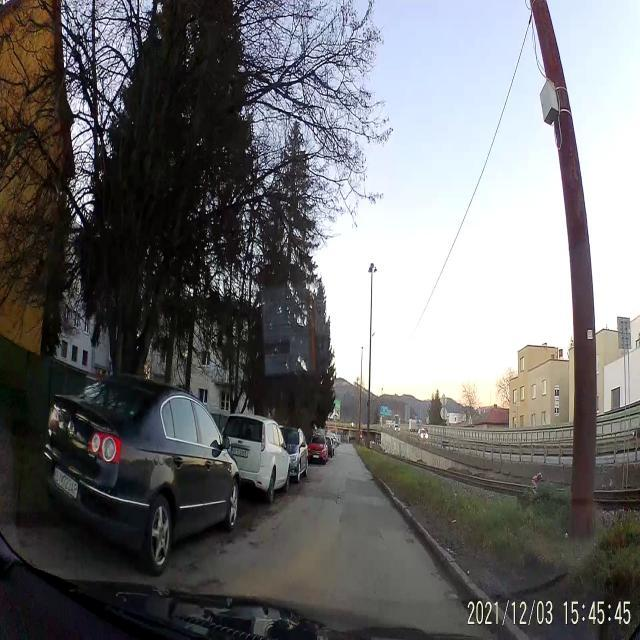Pothole: (198, 566, 228, 593)
